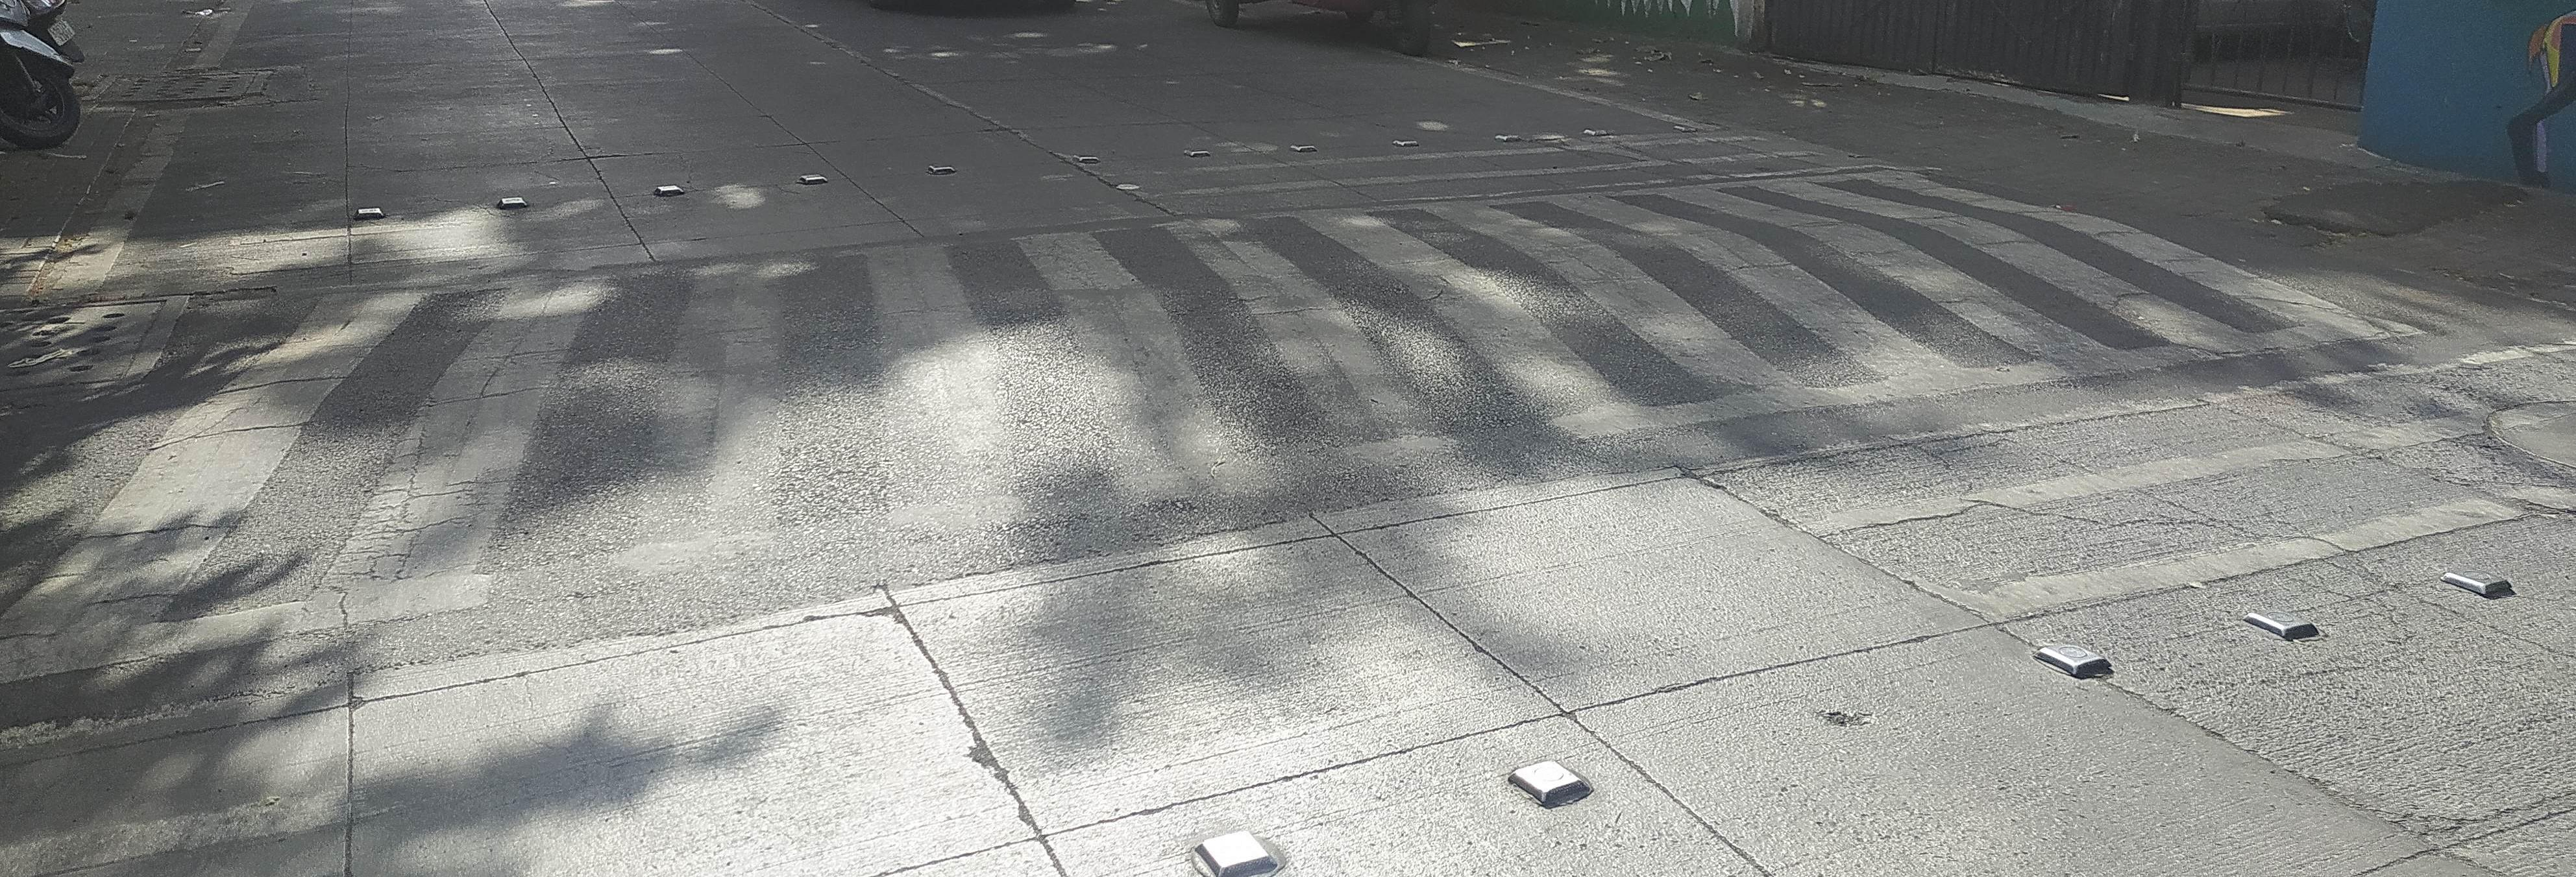speed-bump: (19, 139, 2414, 739)
